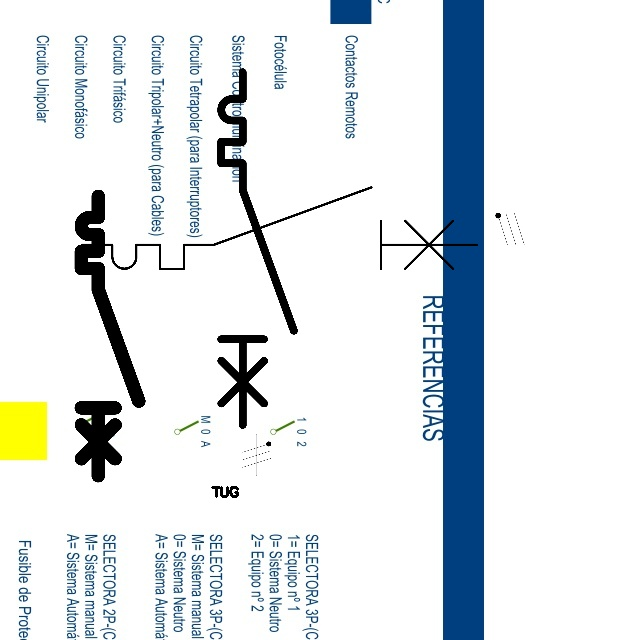interruptor_termomagnetico: (72, 177, 487, 279), (212, 63, 303, 434), (74, 189, 146, 483)
